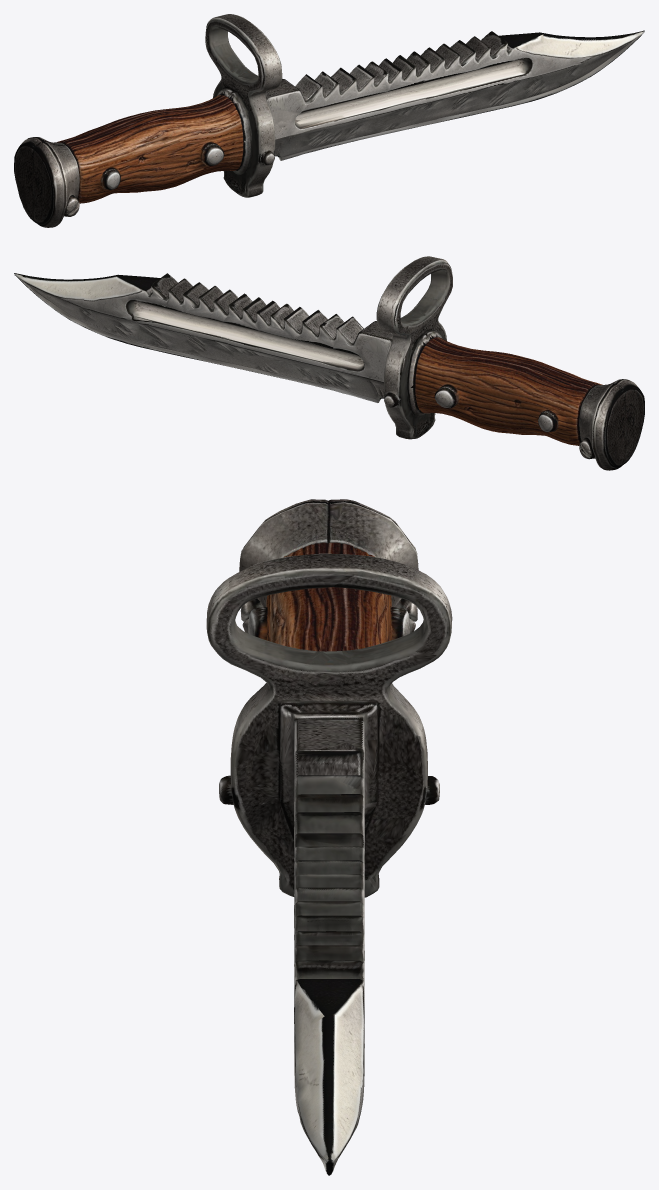
Rendered from bayonet.glb.
3 renders of one model, top to bottom at view 1: azimuth 30°, elevation 25°; view 2: azimuth 150°, elevation 25°; view 3: azimuth 270°, elevation 25°, orthographic. The views are drawn at different scales.
Visible parts, largest first — view 1: tripo_node_4d20256b-7a19-4c13-9596-70a7bfb58d1f; view 2: tripo_node_4d20256b-7a19-4c13-9596-70a7bfb58d1f; view 3: tripo_node_4d20256b-7a19-4c13-9596-70a7bfb58d1f.
Part boxes in pixels (left/top/right/bottom): tripo_node_4d20256b-7a19-4c13-9596-70a7bfb58d1f: left=14, top=14, right=644, bottom=227; tripo_node_4d20256b-7a19-4c13-9596-70a7bfb58d1f: left=14, top=256, right=644, bottom=470; tripo_node_4d20256b-7a19-4c13-9596-70a7bfb58d1f: left=206, top=499, right=452, bottom=1175.
Size of the model in its own units: 0.9823 by 0.2582 by 0.1708.
1 material, 1 textured.
